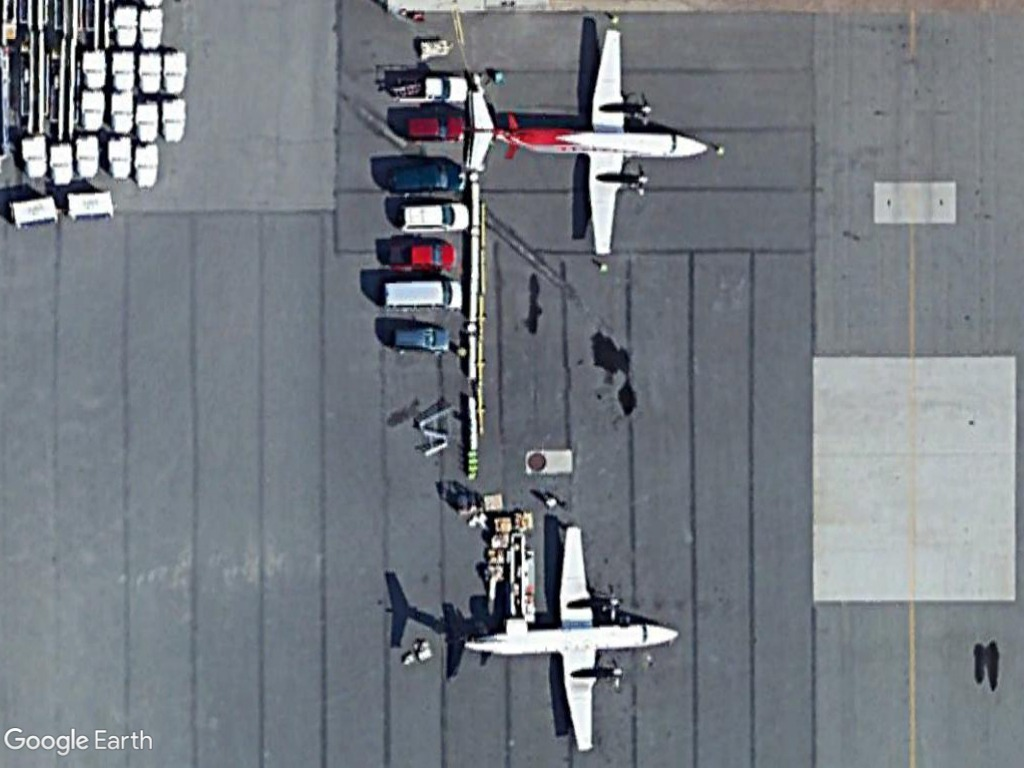car: (391, 200, 472, 234), (397, 109, 468, 146), (387, 323, 454, 357)
other: (386, 69, 470, 106)
propeller: (466, 21, 714, 270), (443, 516, 683, 763)
van: (375, 273, 465, 317), (384, 159, 470, 197)
